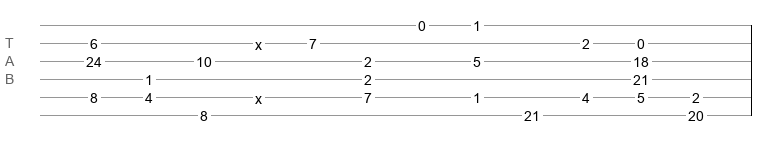0: (418, 18, 426, 28), (637, 36, 645, 46)
1: (145, 72, 153, 82), (473, 90, 481, 100), (473, 18, 481, 28)
10: (196, 54, 212, 64)
18: (633, 54, 649, 64)
2: (364, 54, 372, 64), (364, 72, 372, 82), (582, 36, 590, 46), (692, 90, 700, 100)
20: (688, 108, 704, 118)
21: (524, 108, 540, 118), (633, 72, 649, 82)
24: (86, 54, 102, 64)
4: (145, 90, 153, 100), (582, 90, 590, 100)
5: (473, 54, 481, 64), (637, 90, 645, 100)
6: (90, 36, 98, 46)
7: (309, 36, 317, 46), (364, 90, 372, 100)
8: (90, 90, 98, 100), (200, 108, 208, 118)
x: (255, 91, 262, 99), (255, 37, 262, 45)
